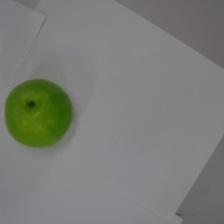green: (4, 77, 74, 148)
